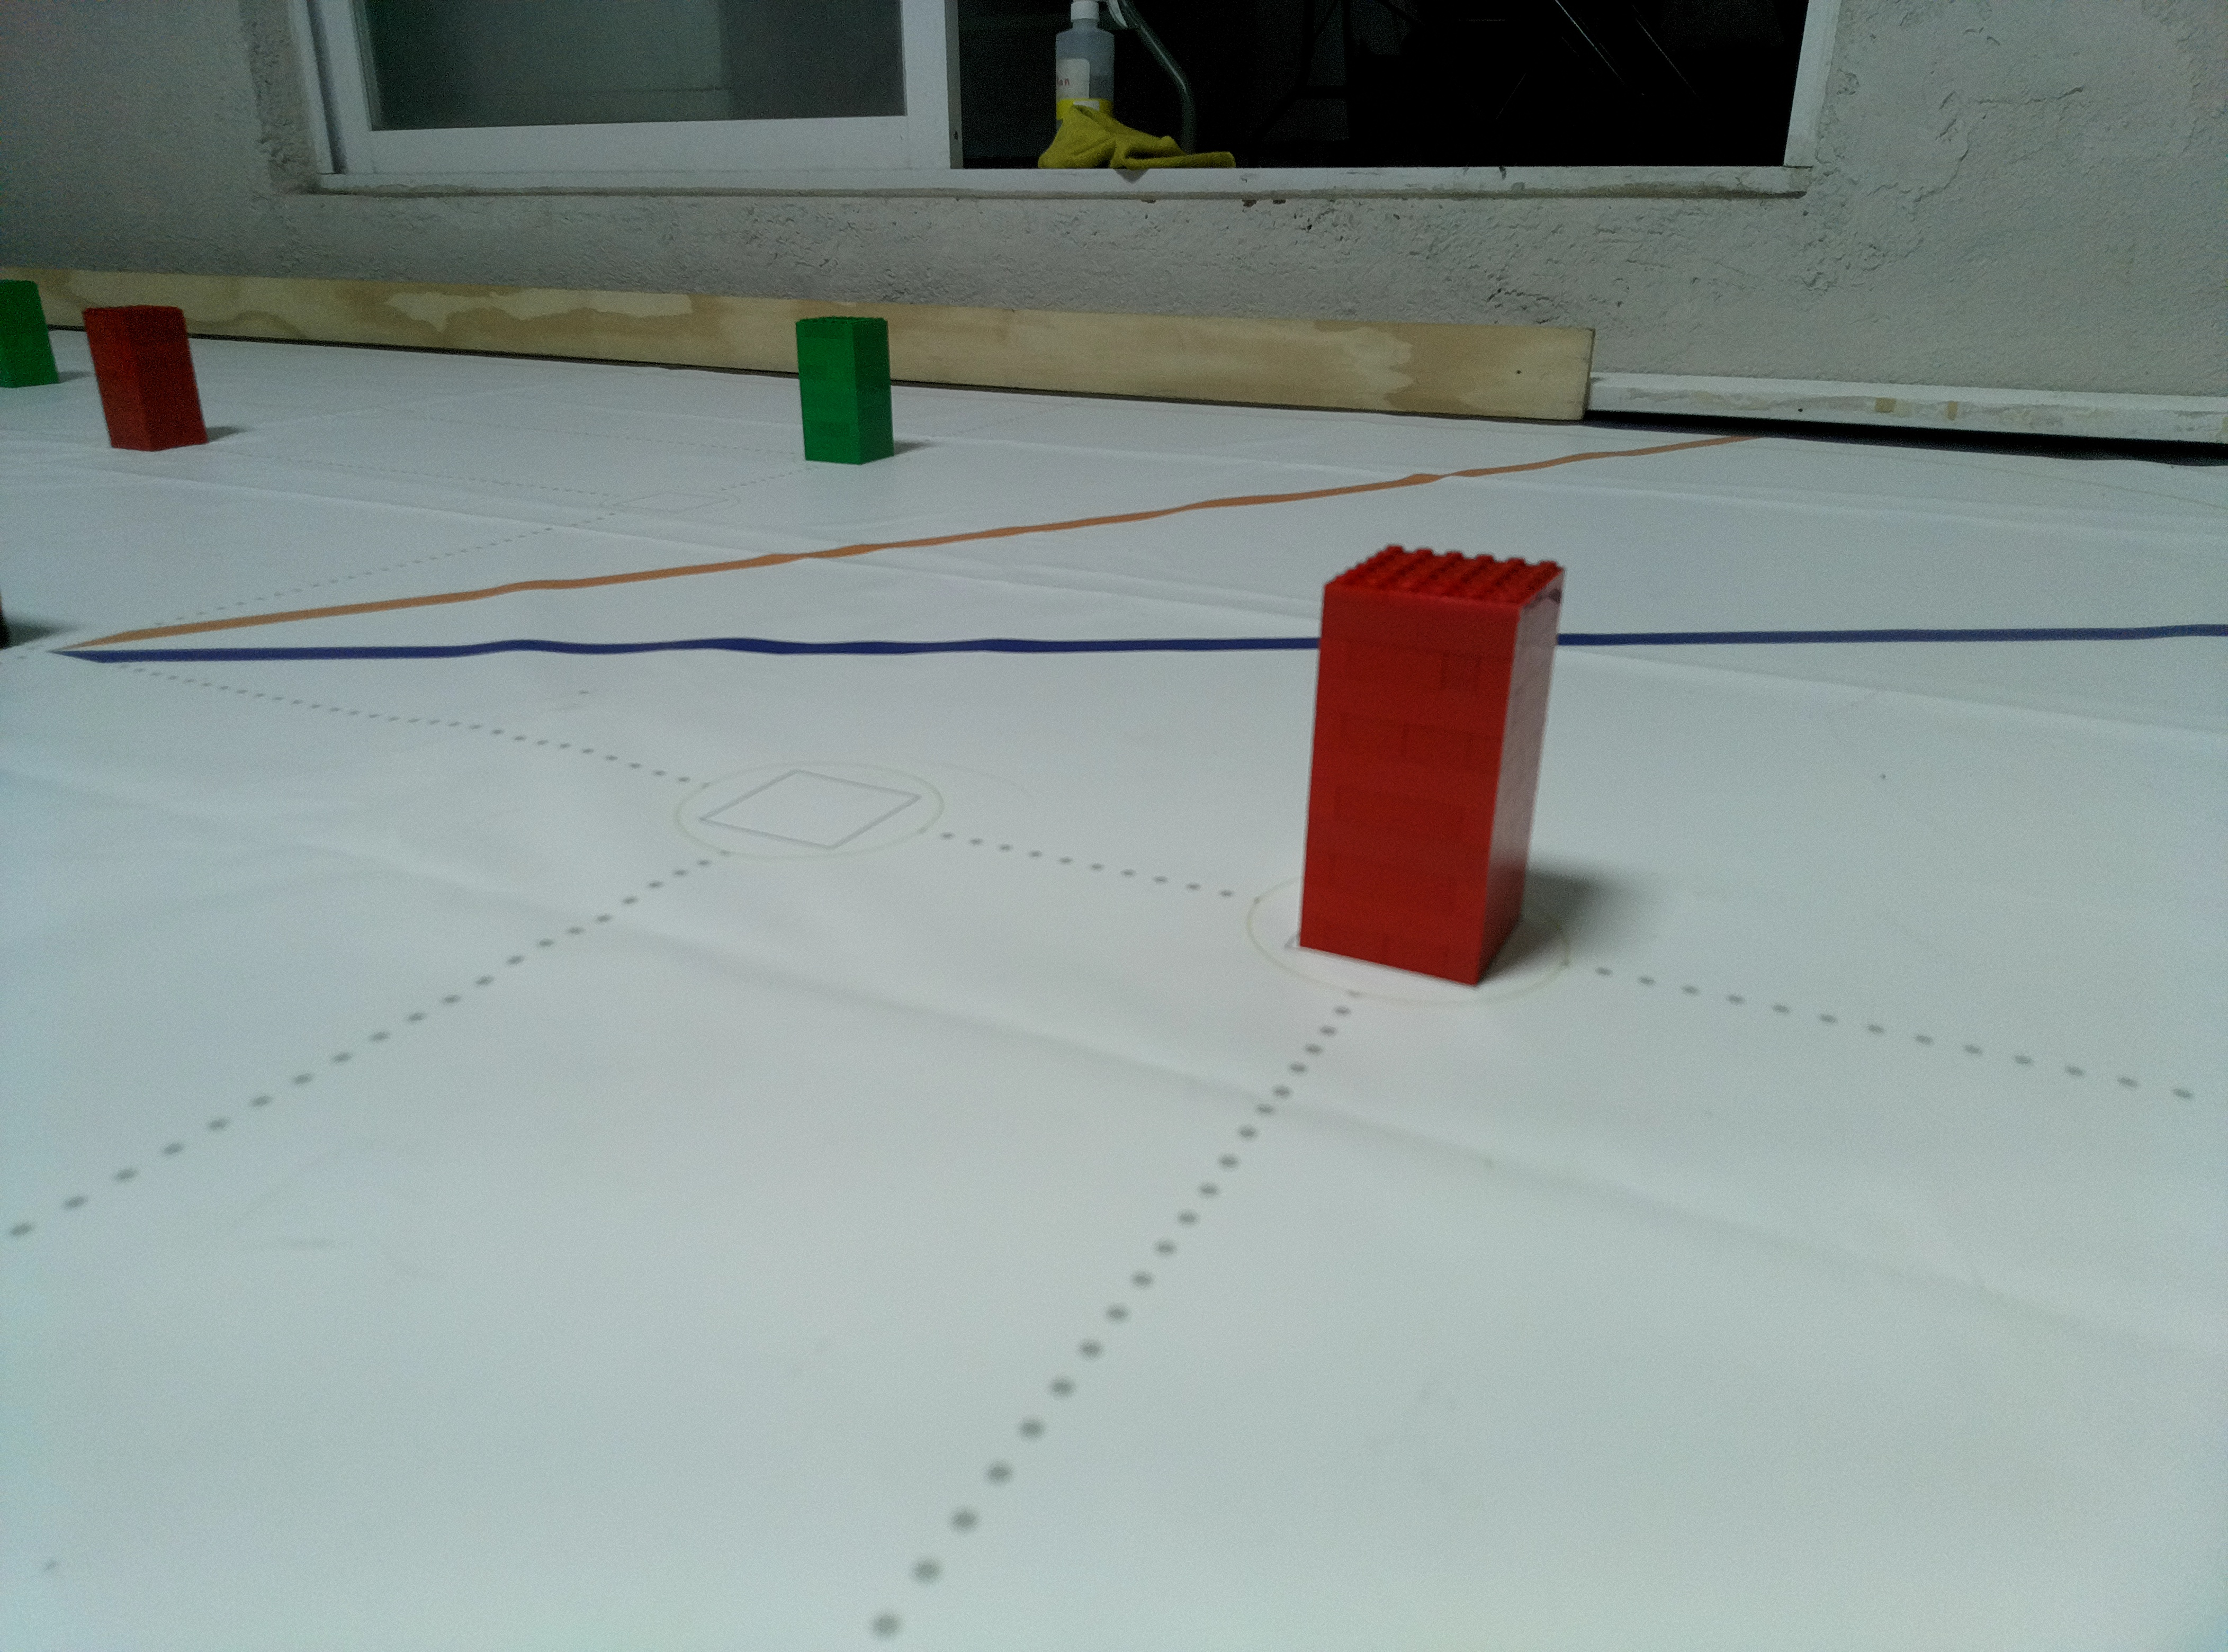greenbox: (791, 312, 897, 467), (0, 276, 64, 390)
redbox: (1293, 540, 1572, 993), (78, 302, 212, 455)
